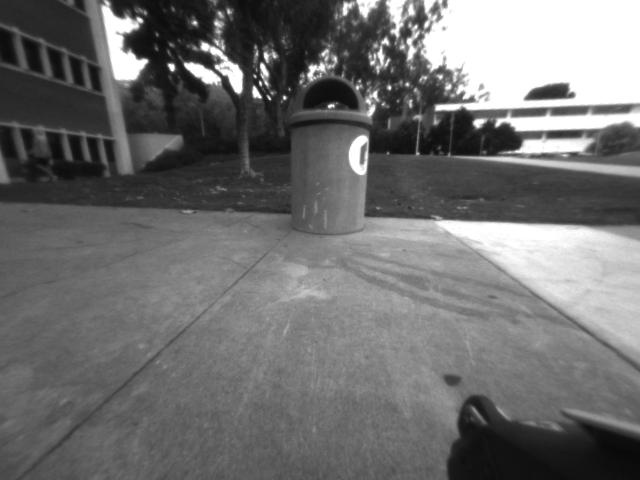trashcan: (282, 72, 374, 242)
